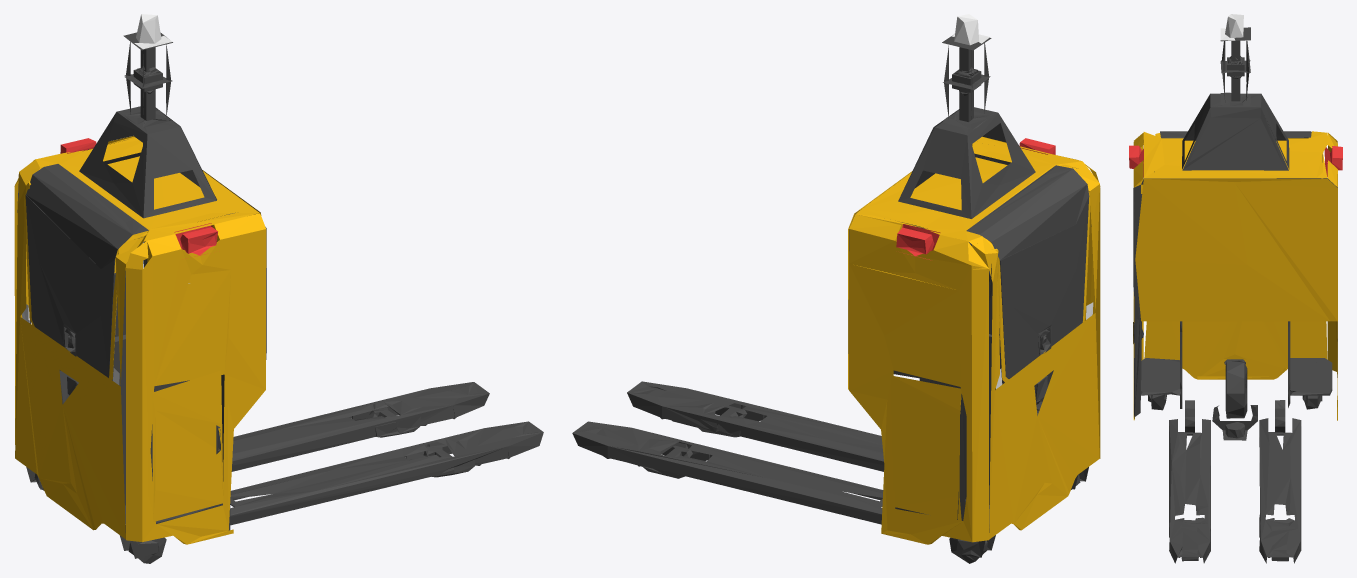
The model's file is pallet-mover.glb.
3 views of the same model, side by side, from view 1: azimuth 30°, elevation 25°; view 2: azimuth 150°, elevation 25°; view 3: azimuth 270°, elevation 25° (orthographic). The views are drawn at different scales.
Visible parts, largest first — view 1: mat3, mat1, light_red, light_status; view 2: mat3, mat1, light_red, light_status; view 3: mat3, mat1, light_red, light_status.
Boxes of the visible parts, x1,y1,x2,y2 form: mat3: [14, 136, 266, 544]; mat1: [17, 32, 543, 563]; light_red: [60, 138, 217, 259]; light_status: [22, 14, 189, 384]; mat3: [848, 136, 1100, 544]; mat1: [572, 35, 1091, 563]; light_red: [896, 138, 1055, 260]; light_status: [943, 14, 1093, 388]; mat3: [1133, 131, 1337, 420]; mat1: [1133, 27, 1337, 563]; light_red: [1129, 145, 1342, 177]; light_status: [1220, 14, 1250, 40].
Size of the model in its own units: 1.45 by 1.57 by 0.7378.
